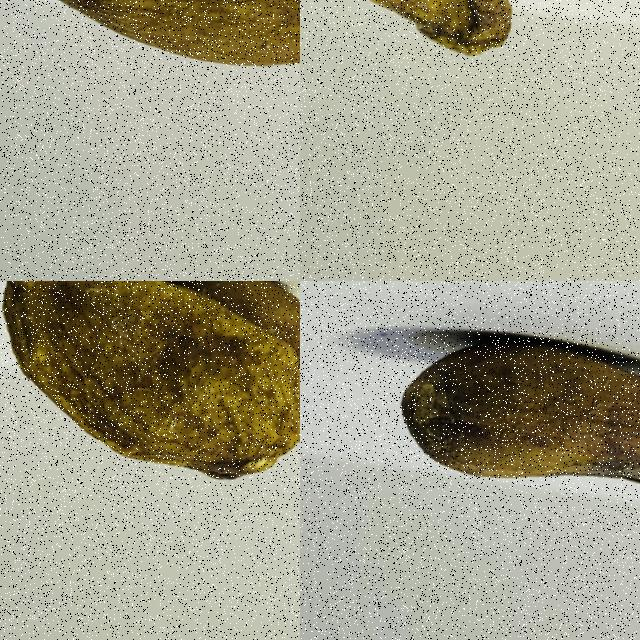Agglomerated_cocoabeans: (0, 281, 299, 559), (300, 0, 578, 108)
Fine_cocoabeans: (300, 281, 639, 587), (0, 0, 299, 138)
